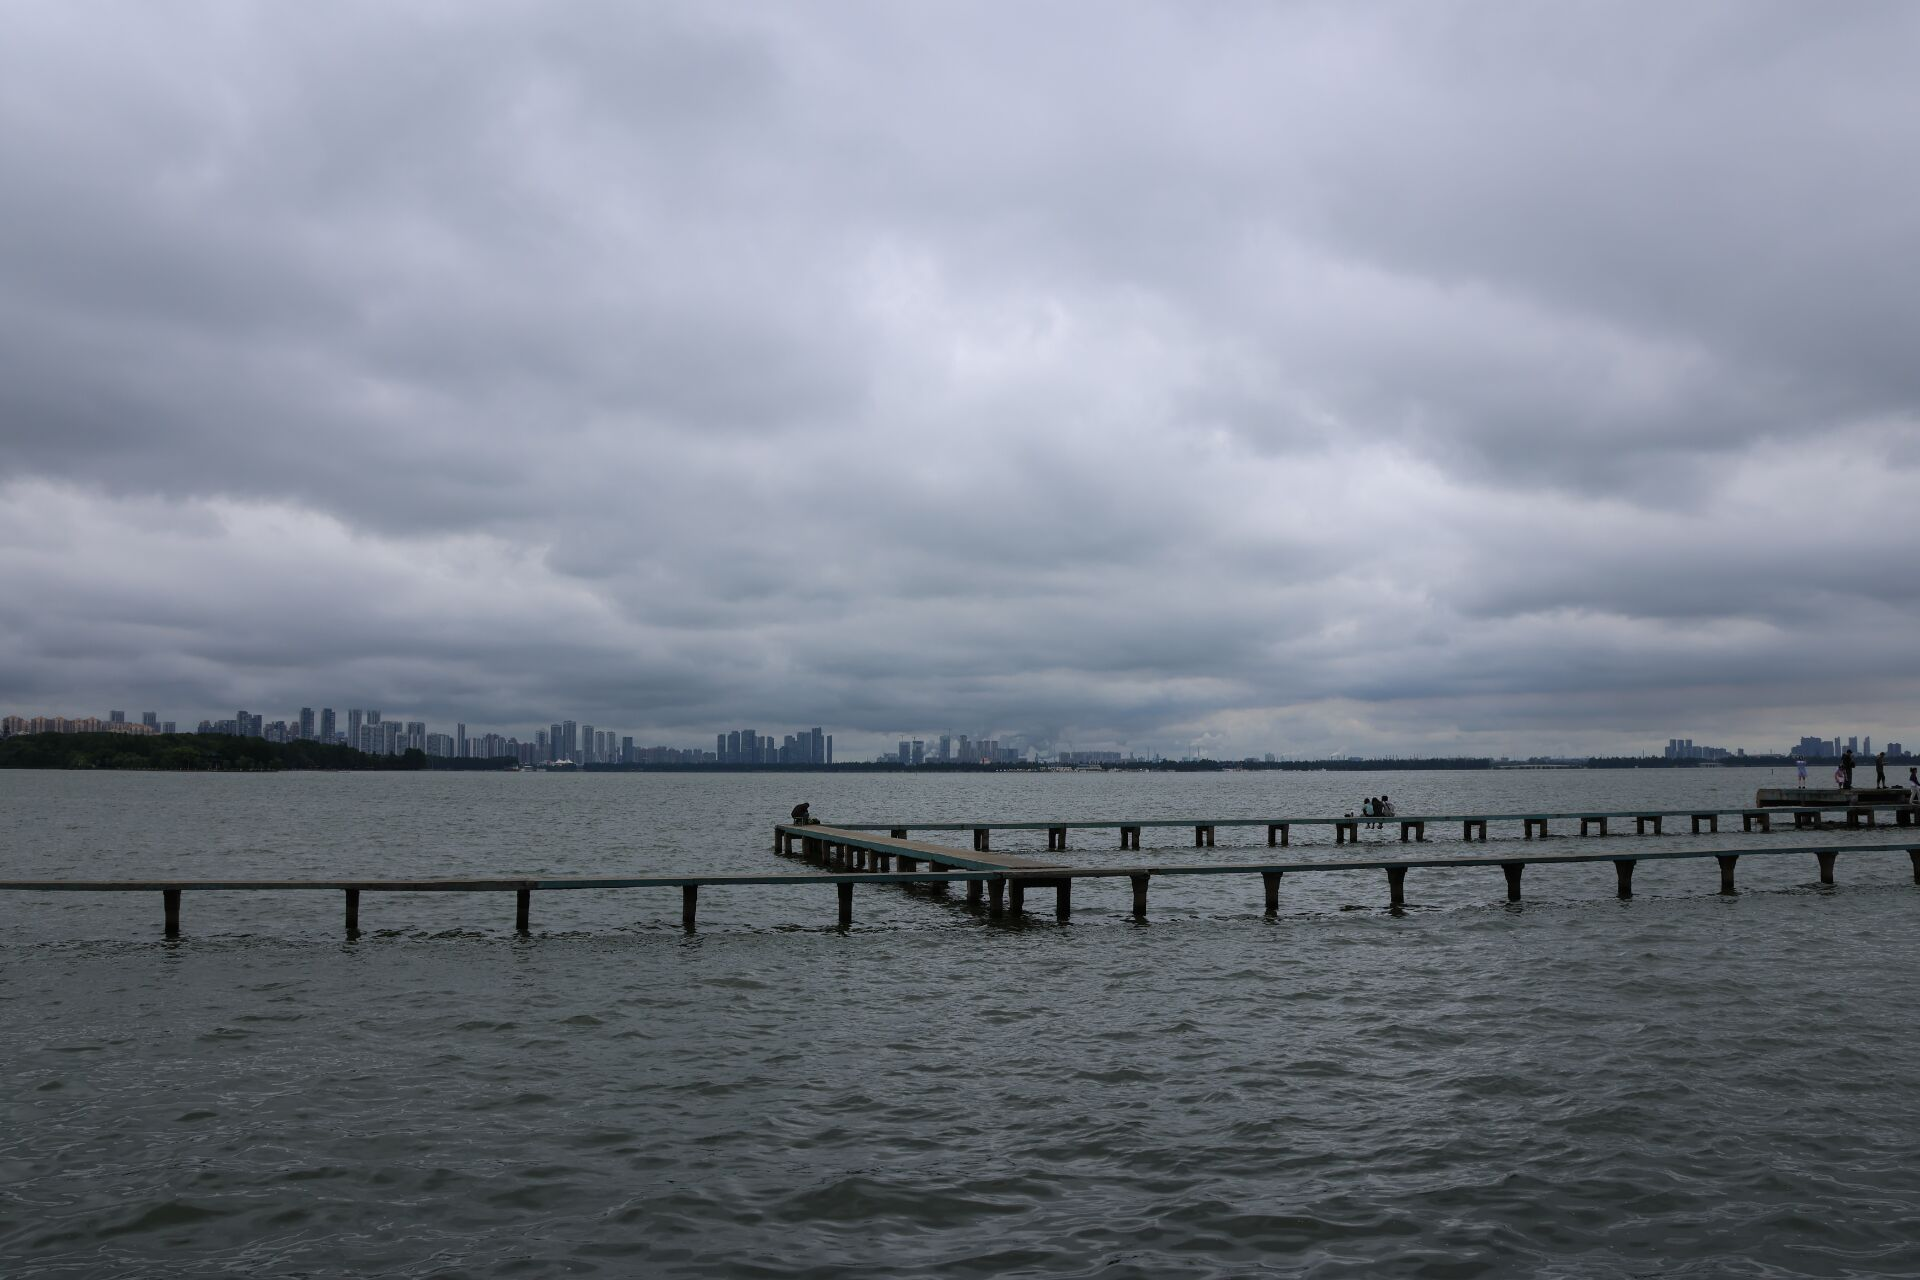Stratus: (11, 11, 1920, 546), (34, 446, 1914, 727)
